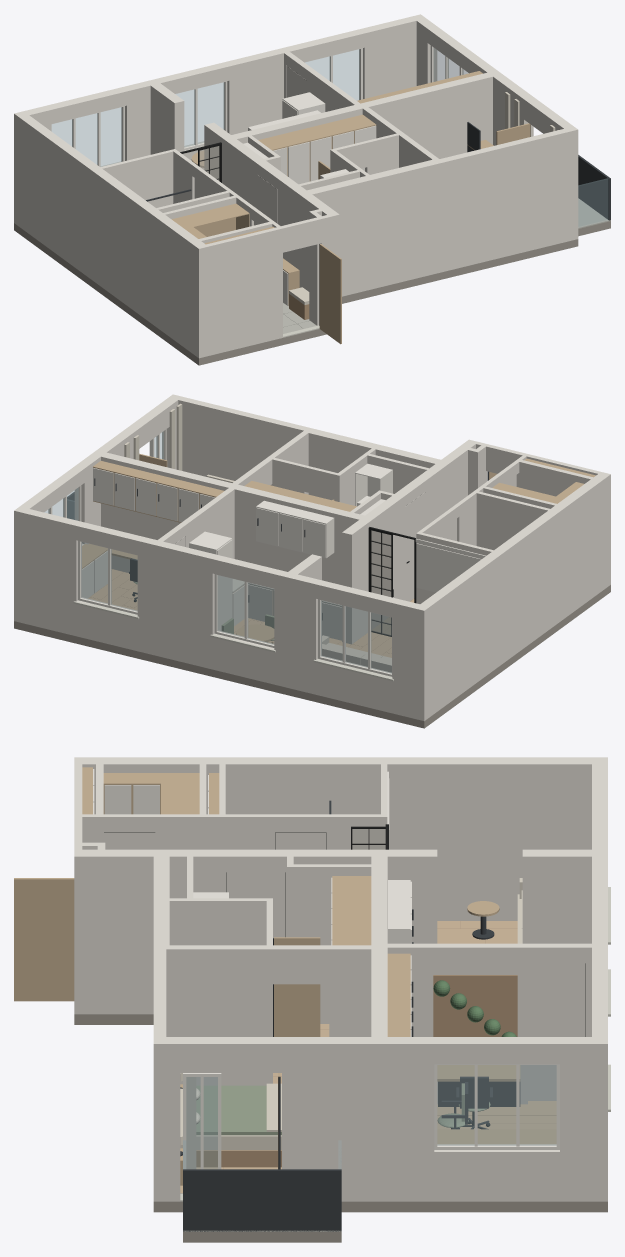
The model's file is apartment.obj.
3 renders of one model, top to bottom at view 1: azimuth 30°, elevation 25°; view 2: azimuth 150°, elevation 25°; view 3: azimuth 270°, elevation 25°, orthographic. The views are drawn at different scales.
Parts seen in each view (by area): view 1: 199_West_exterior, 223_South_bedroom_exterior, 222_South_utility_exterior, 225_Entrance_door_wall_left, 241_Kitchen_and_bedroom_transverse_wall, 188_North_exterior_2, 198_North_exterior_east_end, 0_Main_floor_slab, 237_Kitchen_west_return, 254_Bathroom_1_north_wall, 176_North_window_1_glazing, 236_Living_room_north_pier (+42 smaller); view 2: 199_West_exterior, 188_North_exterior_2, 241_Kitchen_and_bedroom_transverse_wall, 198_North_exterior_east_end, 223_South_bedroom_exterior, 237_Kitchen_west_return, 178_North_exterior_1, 0_Main_floor_slab, 167_North_exterior_0, 176_North_window_1_glazing, 186_North_window_2_glazing, 222_South_utility_exterior (+53 smaller); view 3: 199_West_exterior, 224_Entrance_east_exterior, 211_East_bedroom_wall_upper, 201_East_study_wall_lower, 232_Balcony_railing_east, 210_East_study_wall_glazing, 230_Entry_door_open, 236_Living_room_north_pier, 202_East_study_wall_sill, 239_Study_partition_with_door_lower, 295_Study_concealed_door_leaf, 200_East_study_wall_upper (+55 smaller).
Boxes of the visible parts, x1=… form: 199_West_exterior: x1=19, y1=115, x2=208, y2=358; 223_South_bedroom_exterior: x1=440, y1=126, x2=578, y2=271; 222_South_utility_exterior: x1=297, y1=159, x2=443, y2=296; 225_Entrance_door_wall_left: x1=196, y1=226, x2=282, y2=357; 241_Kitchen_and_bedroom_transverse_wall: x1=231, y1=72, x2=492, y2=158; 188_North_exterior_2: x1=224, y1=44, x2=303, y2=134; 198_North_exterior_east_end: x1=359, y1=14, x2=425, y2=98; 0_Main_floor_slab: x1=14, y1=223, x2=578, y2=345; 237_Kitchen_west_return: x1=204, y1=122, x2=265, y2=207; 254_Bathroom_1_north_wall: x1=100, y1=149, x2=176, y2=207; 176_North_window_1_glazing: x1=52, y1=107, x2=121, y2=166; 236_Living_room_north_pier: x1=150, y1=83, x2=184, y2=155; 199_West_exterior: x1=420, y1=472, x2=610, y2=716; 188_North_exterior_2: x1=137, y1=537, x2=217, y2=669; 241_Kitchen_and_bedroom_transverse_wall: x1=101, y1=452, x2=364, y2=584; 198_North_exterior_east_end: x1=14, y1=506, x2=81, y2=635; 223_South_bedroom_exterior: x1=169, y1=394, x2=307, y2=480; 237_Kitchen_west_return: x1=342, y1=494, x2=404, y2=644; 178_North_exterior_1: x1=274, y1=570, x2=321, y2=694; 0_Main_floor_slab: x1=14, y1=605, x2=583, y2=728; 167_North_exterior_0: x1=392, y1=599, x2=429, y2=721; 176_North_window_1_glazing: x1=321, y1=600, x2=391, y2=673; 186_North_window_2_glazing: x1=217, y1=575, x2=273, y2=644; 222_South_utility_exterior: x1=303, y1=427, x2=450, y2=511; 199_West_exterior: x1=74, y1=757, x2=591, y2=920; 224_Entrance_east_exterior: x1=74, y1=849, x2=169, y2=1014; 211_East_bedroom_wall_upper: x1=282, y1=1037, x2=371, y2=1201; 201_East_study_wall_lower: x1=371, y1=1037, x2=434, y2=1201; 232_Balcony_railing_east: x1=183, y1=1169, x2=341, y2=1231; 210_East_study_wall_glazing: x1=437, y1=1065, x2=556, y2=1145; 230_Entry_door_open: x1=14, y1=878, x2=74, y2=1001; 236_Living_room_north_pier: x1=522, y1=849, x2=591, y2=943; 202_East_study_wall_sill: x1=434, y1=1150, x2=559, y2=1201; 239_Study_partition_with_door_lower: x1=387, y1=943, x2=527, y2=1104; 295_Study_concealed_door_leaf: x1=528, y1=963, x2=585, y2=1100; 200_East_study_wall_upper: x1=560, y1=1037, x2=591, y2=1201.
Size of the model in its own units: 11.61 by 2.88 by 9.25.
